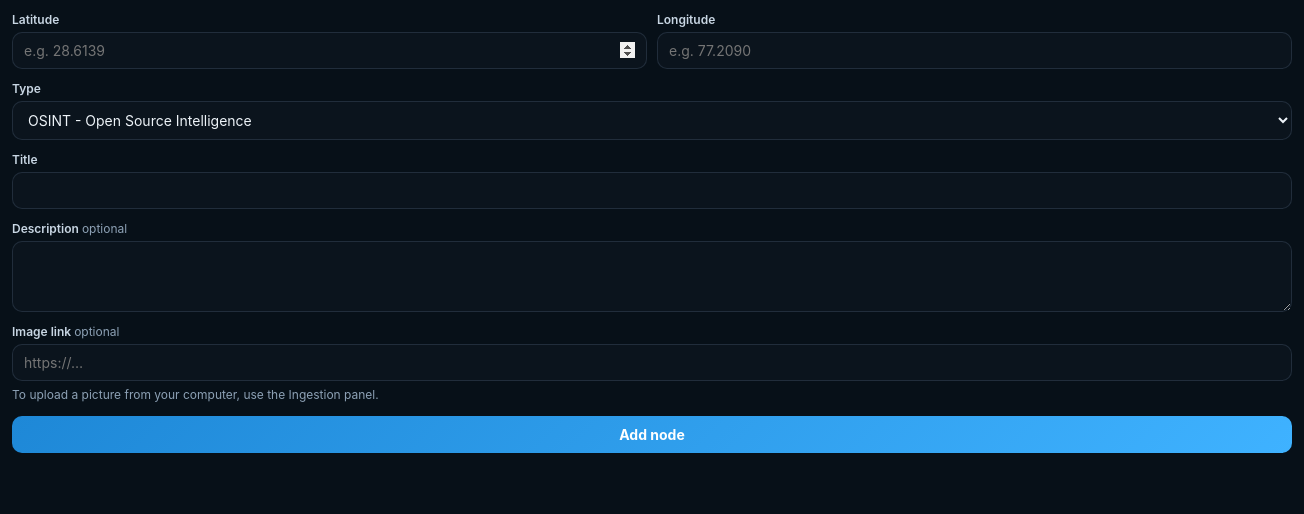
Test: AddNodeForm › shows inline messages instead of an alert() box, and does not submit
Click the button "Add node" at (652, 434), box [12,416,1292,453]
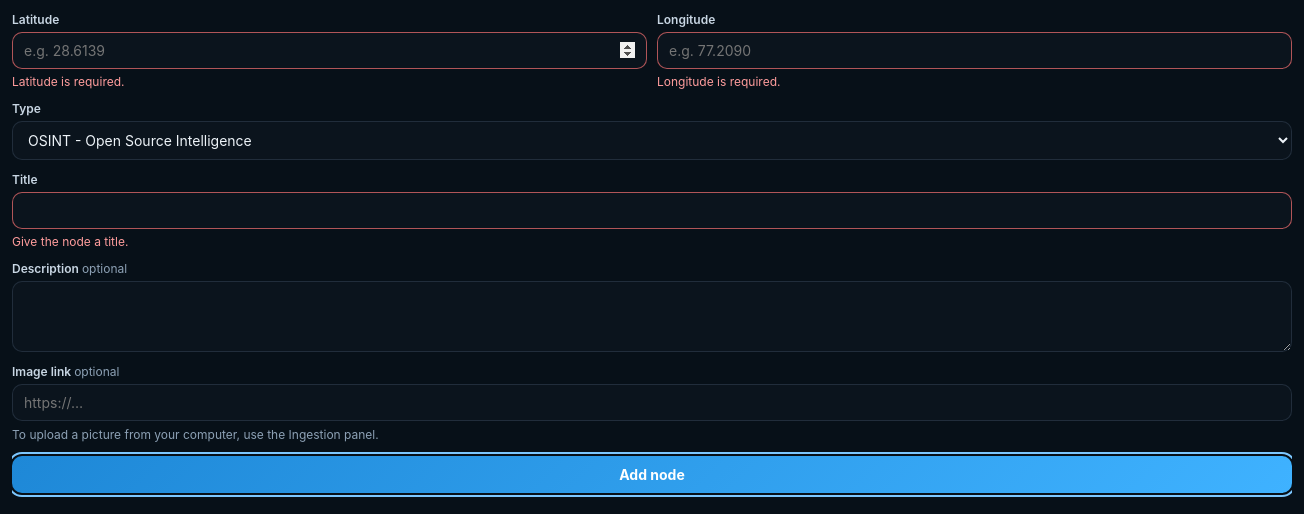
Check: the text "Latitude is required." is shown, box [12,74,124,89]
Check: the text "Give the node a title." is shown, box [12,234,128,249]
